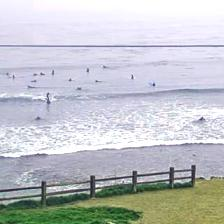surfer: (198, 116, 206, 121), (46, 92, 50, 100), (35, 115, 41, 120), (102, 65, 108, 69), (130, 74, 134, 79), (41, 72, 46, 76), (11, 74, 15, 79), (76, 87, 82, 90), (52, 70, 55, 76), (31, 80, 37, 83), (86, 68, 90, 72), (28, 86, 36, 88), (153, 82, 156, 86), (69, 78, 72, 81), (6, 72, 9, 75), (95, 80, 99, 82), (33, 74, 37, 76)
